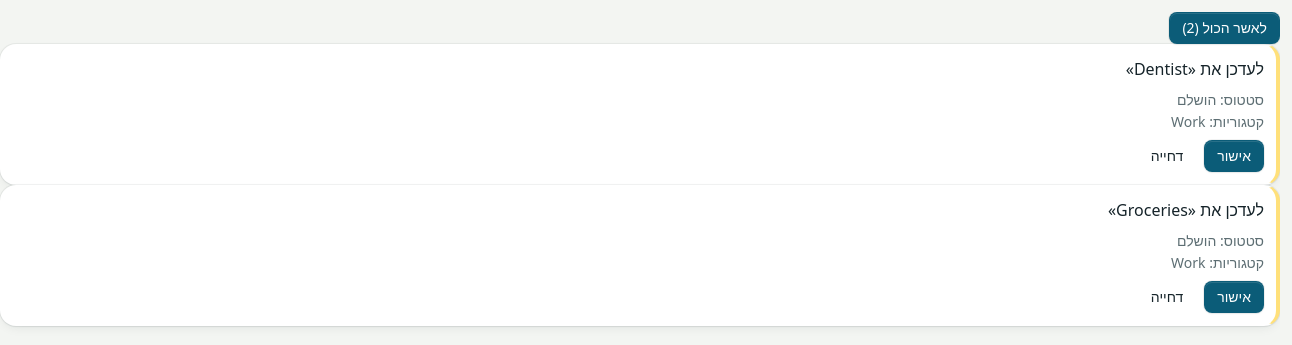
Test: ActionGroup note cards › a 404 on one note card errors that card only
Click the button "לאשר הכול (2)": [1225, 28] box [1169,12,1280,44]
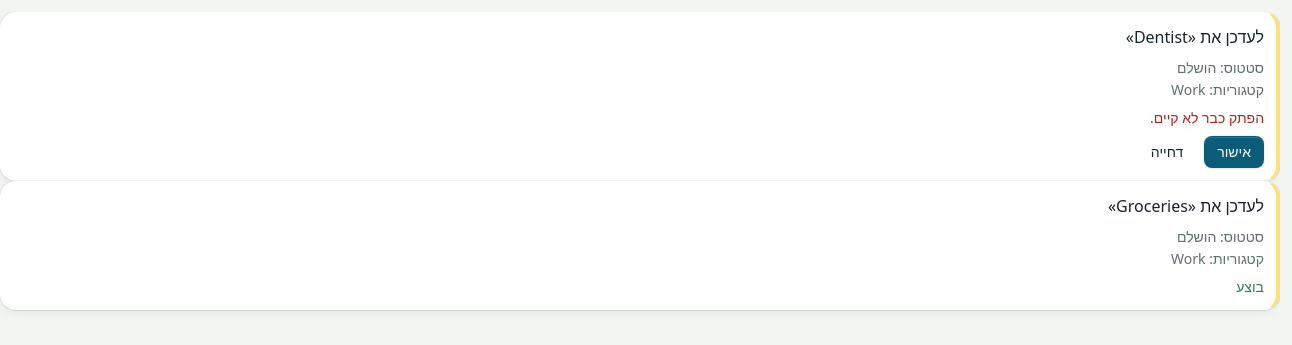
Expected: the number of messages is 1, [1150,108,1264,127]
Expected: the text "בוצע" is shown once, [1236,277,1264,296]
